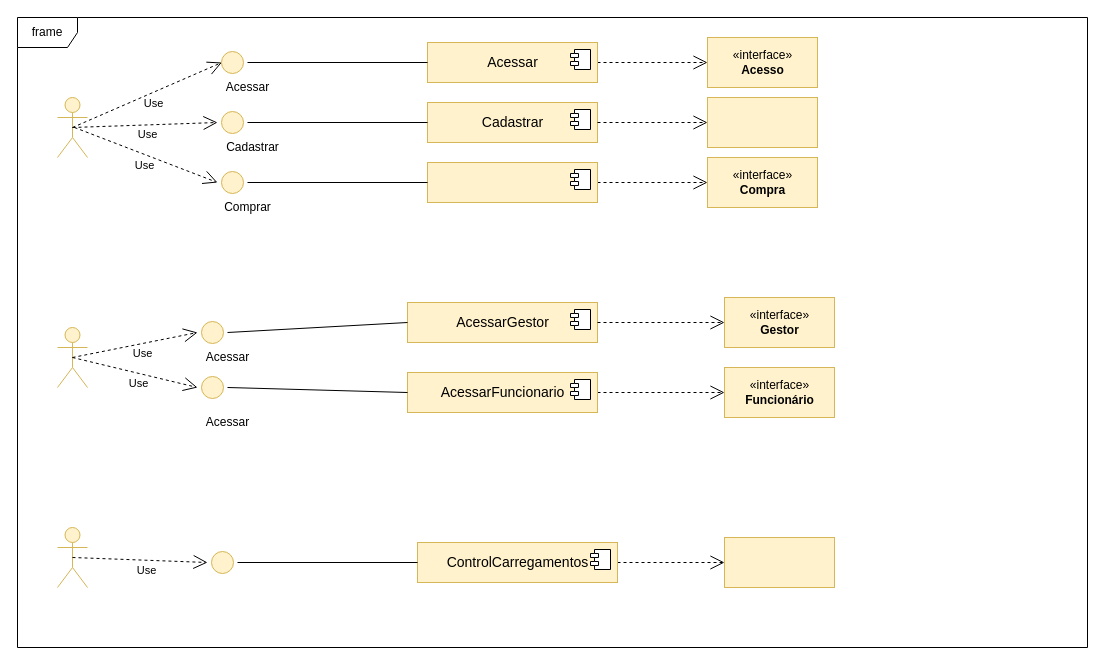
The diagram is 1105 pixels wide and 665 high, and some of its shapes have lost their labels. Each missing label, with the centre of its shape:
Cliente: the point at 72,127
ComprarProdutos: the point at 512,182
Funcionário: the point at 72,557
Gestor: the point at 72,357
«interface» Cadastro: the point at 762,122
«interface» Carregamentos: the point at 779,562
